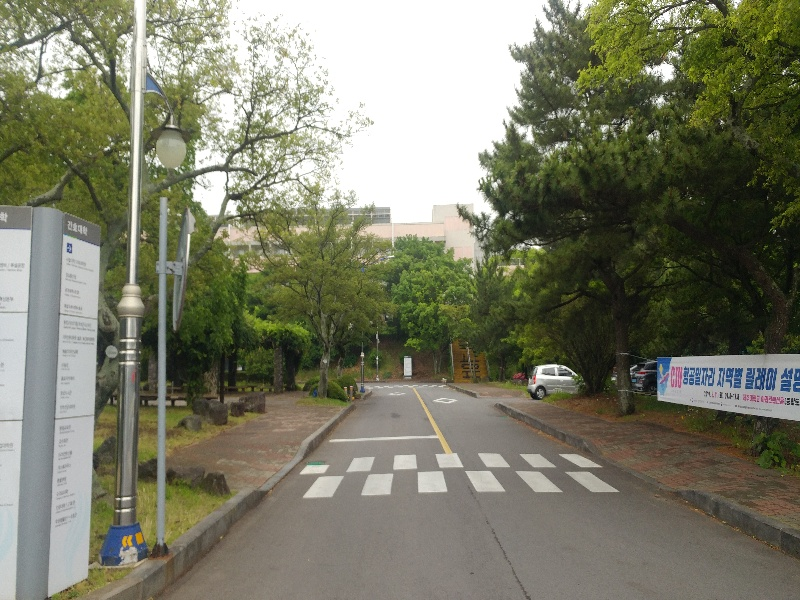College Of Education: (220, 199, 481, 288)
